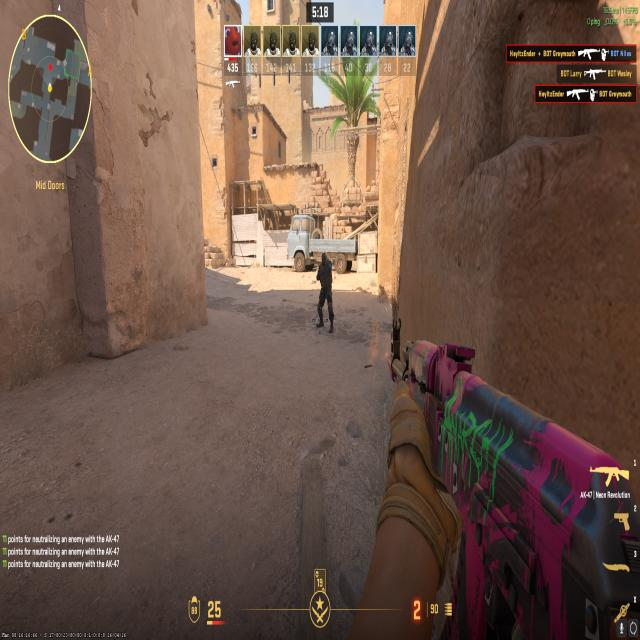ct: (306, 244, 345, 354)
